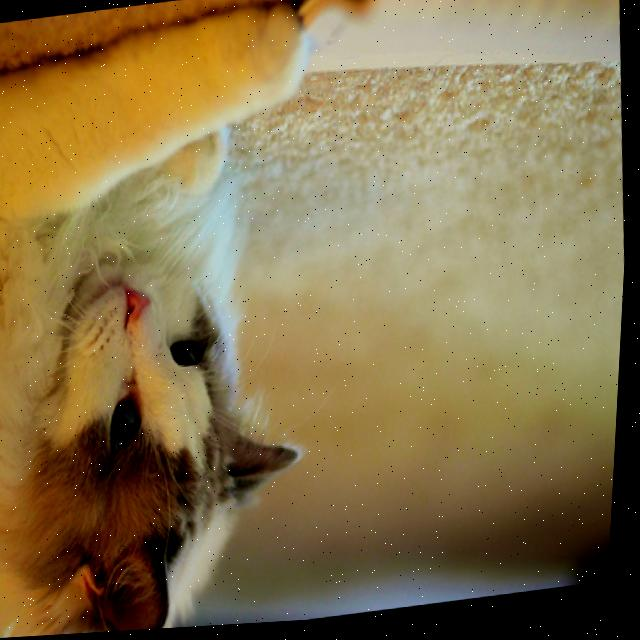Ragdoll: (0, 0, 349, 640)
